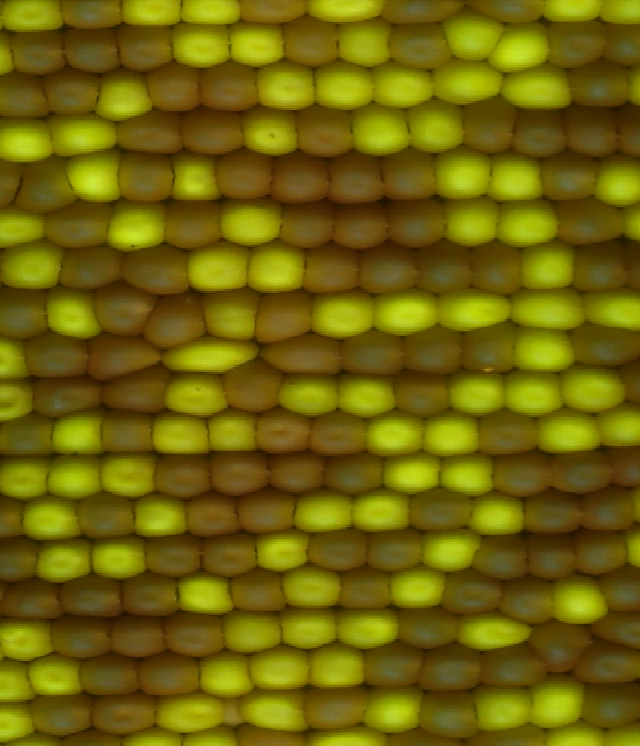fluorescent: (373, 280, 444, 350), (399, 94, 474, 160), (423, 143, 501, 204), (483, 139, 549, 209), (493, 192, 566, 255), (563, 358, 631, 424), (214, 194, 291, 252), (363, 58, 442, 114), (242, 235, 313, 297), (182, 237, 254, 298), (333, 369, 419, 420), (432, 282, 516, 334), (36, 283, 107, 344), (156, 335, 266, 374), (221, 14, 293, 73), (251, 58, 328, 113), (433, 54, 508, 110), (437, 5, 507, 65), (0, 235, 67, 297), (519, 672, 593, 728), (307, 289, 382, 344), (239, 99, 304, 162), (414, 522, 487, 578), (497, 63, 577, 114), (91, 65, 161, 123), (348, 100, 419, 157), (164, 142, 226, 207), (62, 145, 129, 205), (104, 197, 173, 255), (532, 408, 606, 462), (289, 483, 361, 538), (488, 17, 557, 74), (167, 17, 237, 73), (309, 59, 374, 119), (344, 487, 419, 539), (546, 570, 613, 628), (196, 284, 259, 345), (43, 109, 123, 157), (447, 363, 512, 422), (331, 603, 403, 655), (147, 407, 216, 460), (467, 682, 538, 733), (453, 610, 537, 653), (23, 649, 88, 704), (147, 690, 226, 735), (88, 532, 156, 584), (516, 287, 589, 335), (169, 570, 241, 618), (164, 370, 233, 420), (513, 325, 578, 378), (521, 237, 582, 293), (276, 369, 339, 423), (468, 490, 532, 543), (362, 684, 431, 733), (252, 642, 313, 697), (221, 608, 286, 659), (444, 197, 504, 252), (508, 368, 569, 422), (376, 454, 449, 499), (386, 564, 453, 613), (99, 450, 162, 502), (577, 287, 640, 339), (235, 691, 311, 734), (589, 150, 640, 214), (48, 405, 107, 460), (422, 410, 488, 459), (437, 453, 507, 499), (203, 404, 262, 458), (252, 529, 318, 577), (0, 615, 63, 665), (22, 500, 89, 547), (276, 562, 343, 609), (42, 452, 104, 502), (362, 413, 426, 460), (273, 610, 341, 654), (196, 650, 258, 698), (31, 543, 101, 585), (128, 497, 194, 540), (0, 113, 54, 165), (0, 200, 52, 252), (0, 454, 54, 502), (0, 375, 46, 427), (0, 1, 69, 35), (308, 1, 389, 29), (598, 404, 640, 452), (0, 657, 37, 709), (116, 3, 187, 30), (0, 332, 34, 384), (544, 1, 604, 30), (0, 703, 38, 742), (596, 1, 640, 32)
nonfluorescent: (84, 279, 157, 344), (522, 614, 596, 676), (189, 60, 269, 117), (324, 147, 397, 209), (462, 90, 527, 159), (119, 239, 199, 295), (111, 150, 189, 207), (8, 159, 81, 218), (396, 323, 467, 383), (377, 145, 449, 204), (52, 572, 132, 625), (292, 104, 362, 164), (549, 195, 628, 248), (384, 195, 453, 255), (409, 484, 484, 539), (119, 570, 194, 625), (261, 337, 356, 380), (104, 604, 174, 662), (161, 194, 224, 258), (38, 202, 118, 252), (498, 579, 572, 633), (267, 153, 337, 210), (81, 334, 164, 382), (339, 329, 417, 380), (364, 639, 437, 693), (75, 650, 152, 701), (509, 105, 571, 168), (43, 614, 121, 664), (478, 640, 553, 692), (463, 243, 529, 302), (181, 104, 248, 162), (248, 407, 321, 460), (415, 643, 488, 696), (416, 685, 485, 741), (102, 368, 172, 423), (563, 104, 626, 165), (536, 19, 611, 70), (112, 107, 187, 158), (331, 197, 394, 257), (147, 293, 206, 357), (308, 525, 377, 579), (274, 198, 336, 258), (143, 60, 208, 117), (21, 328, 92, 380), (41, 65, 109, 119), (76, 493, 149, 543), (569, 55, 633, 112), (135, 649, 205, 701), (541, 147, 607, 202), (56, 243, 127, 294), (517, 488, 588, 539), (577, 243, 636, 304), (414, 242, 476, 300), (254, 289, 316, 347), (548, 444, 612, 500), (29, 375, 102, 424), (183, 489, 249, 543), (89, 691, 170, 735), (299, 682, 373, 730), (160, 611, 231, 661), (364, 524, 427, 580), (571, 527, 634, 583), (393, 606, 468, 653), (487, 452, 556, 503), (474, 408, 544, 458), (138, 533, 206, 584), (0, 576, 68, 627), (439, 572, 508, 622), (458, 327, 523, 380), (26, 688, 96, 737), (216, 154, 282, 205), (223, 360, 281, 418), (202, 529, 259, 587), (232, 485, 298, 535), (522, 533, 583, 587), (214, 452, 277, 504), (469, 537, 534, 587), (308, 409, 374, 458), (393, 20, 457, 70), (0, 67, 56, 124), (228, 570, 294, 618), (359, 244, 421, 294), (118, 24, 182, 72), (575, 640, 640, 687), (302, 243, 363, 293), (0, 287, 57, 340), (98, 407, 156, 459), (282, 14, 341, 65), (579, 685, 640, 734), (573, 487, 639, 532), (7, 30, 64, 82), (153, 459, 217, 504), (572, 328, 640, 370), (61, 23, 118, 73), (594, 558, 640, 618), (323, 457, 387, 499), (0, 413, 52, 464), (267, 457, 333, 497), (397, 375, 454, 418), (583, 611, 640, 650), (0, 538, 39, 589), (236, 4, 319, 27), (58, 2, 129, 28), (602, 22, 640, 70), (604, 442, 640, 490)
